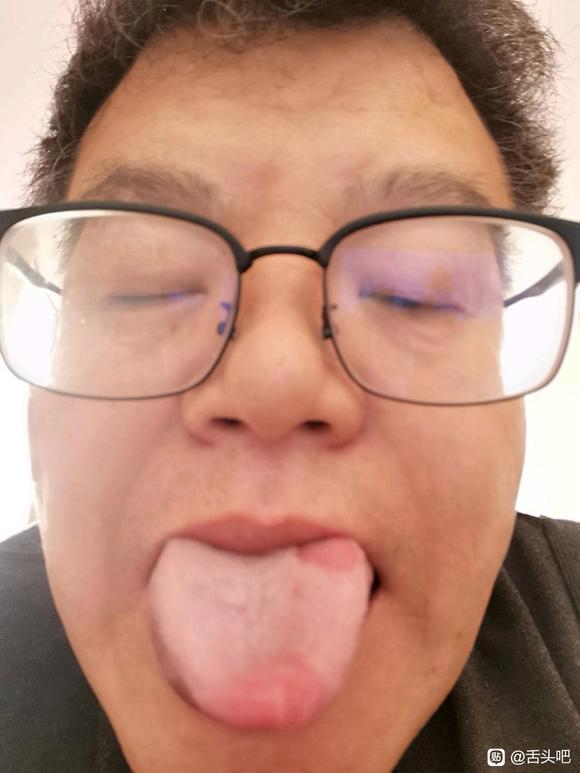baitaishe: (149, 534, 373, 733)
botaishe: (288, 535, 362, 575)
